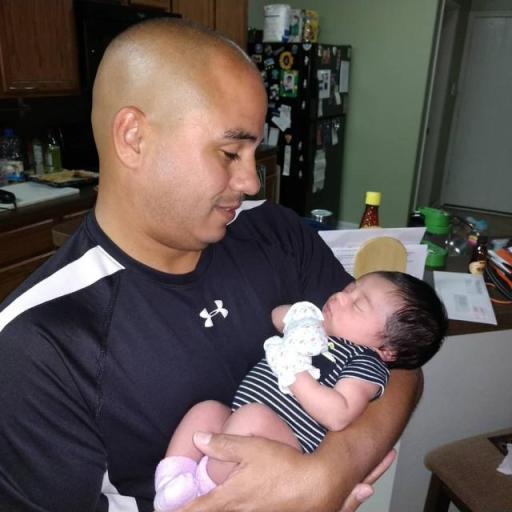Under Armour: (196, 297, 230, 328)
